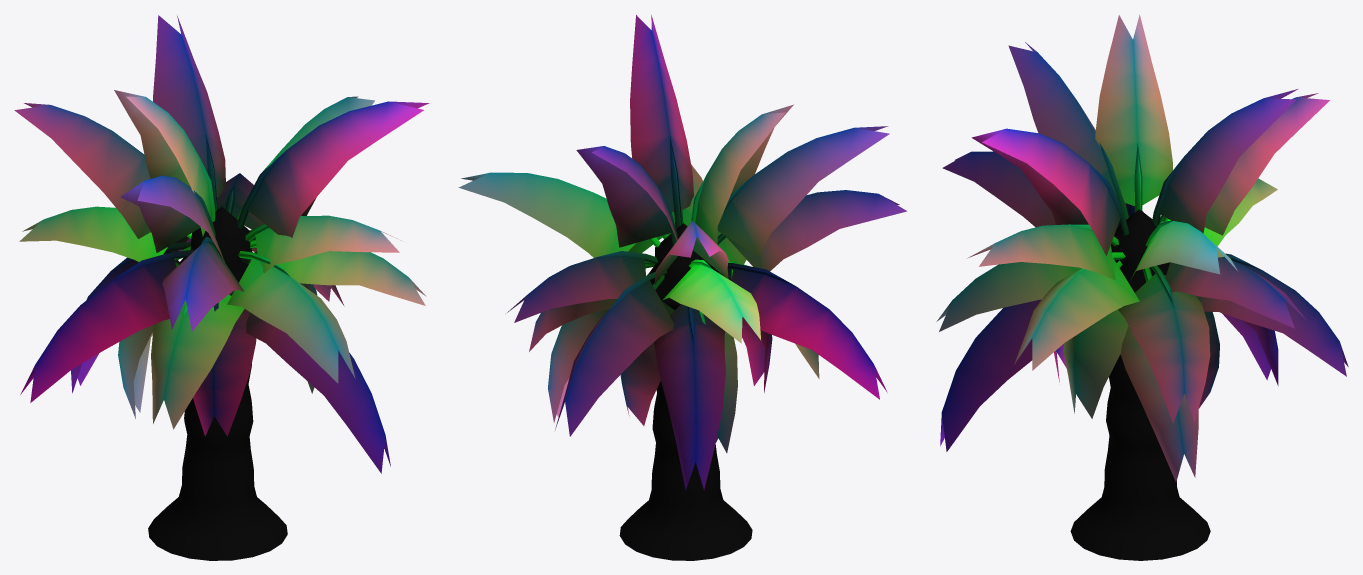
Rendered from M_Palm_2_3.fbx.
3 views of the same model, side by side, from view 1: azimuth 30°, elevation 25°; view 2: azimuth 150°, elevation 25°; view 3: azimuth 270°, elevation 25° (orthographic). The views are drawn at different scales.
Parts seen in each view (by area): view 1: Palm_2_3; view 2: Palm_2_3; view 3: Palm_2_3.
Boxes of the visible parts, x1,y1,x2,y2 form: Palm_2_3: (14, 15, 429, 560); Palm_2_3: (458, 15, 906, 560); Palm_2_3: (936, 14, 1348, 560).
Bounding box in the file's own units: 557 × 624 × 500.
